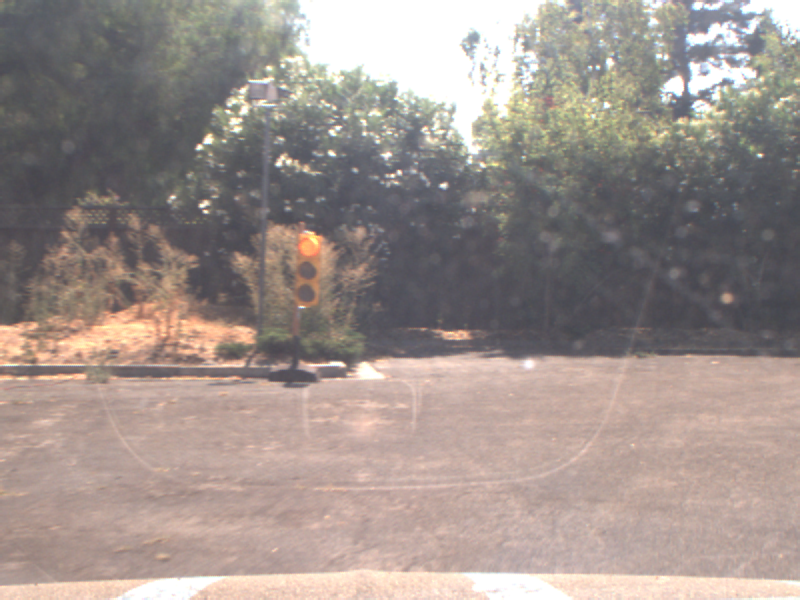red: (294, 229, 321, 310)
